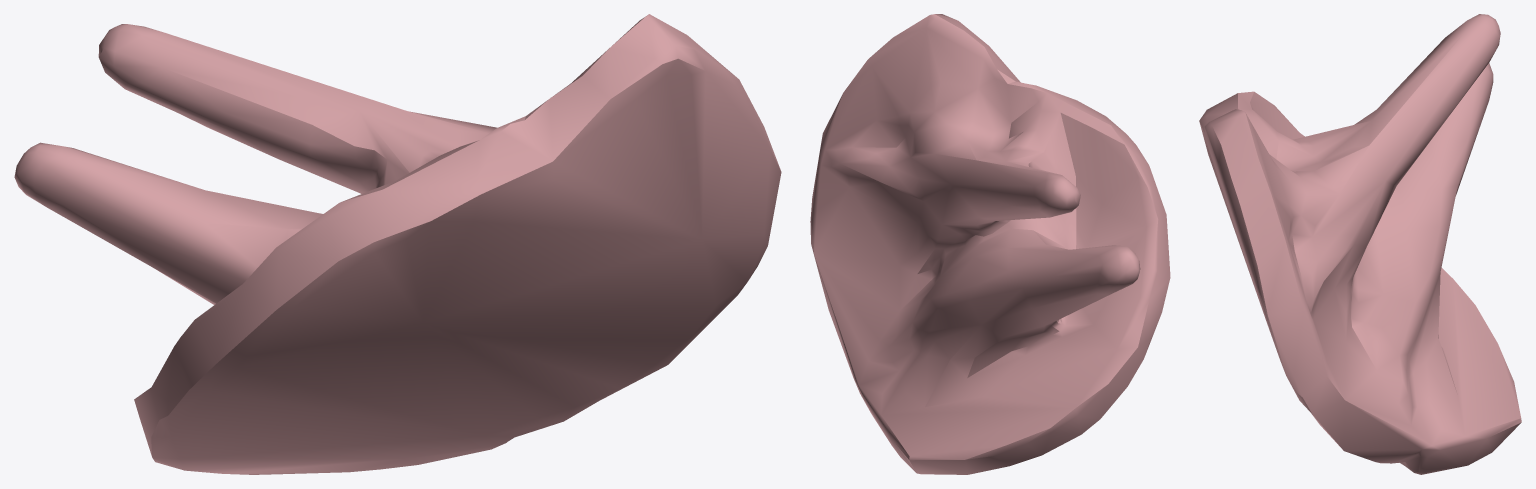
Rendered from fma7260_fj2419.glb.
3 views of the same model, side by side, from view 1: azimuth 30°, elevation 25°; view 2: azimuth 150°, elevation 25°; view 3: azimuth 270°, elevation 25° (orthographic). The views are drawn at different scales.
Parts seen in each view (by area): view 1: FMA7260_FJ2419; view 2: FMA7260_FJ2419; view 3: FMA7260_FJ2419.
Boxes of the visible parts, <box> form: FMA7260_FJ2419: <box>14,14,781,474</box>; FMA7260_FJ2419: <box>810,14,1170,474</box>; FMA7260_FJ2419: <box>1199,14,1521,474</box>.
Bounding box in the file's own units: 0.0351 × 0.0292 × 0.0216.
